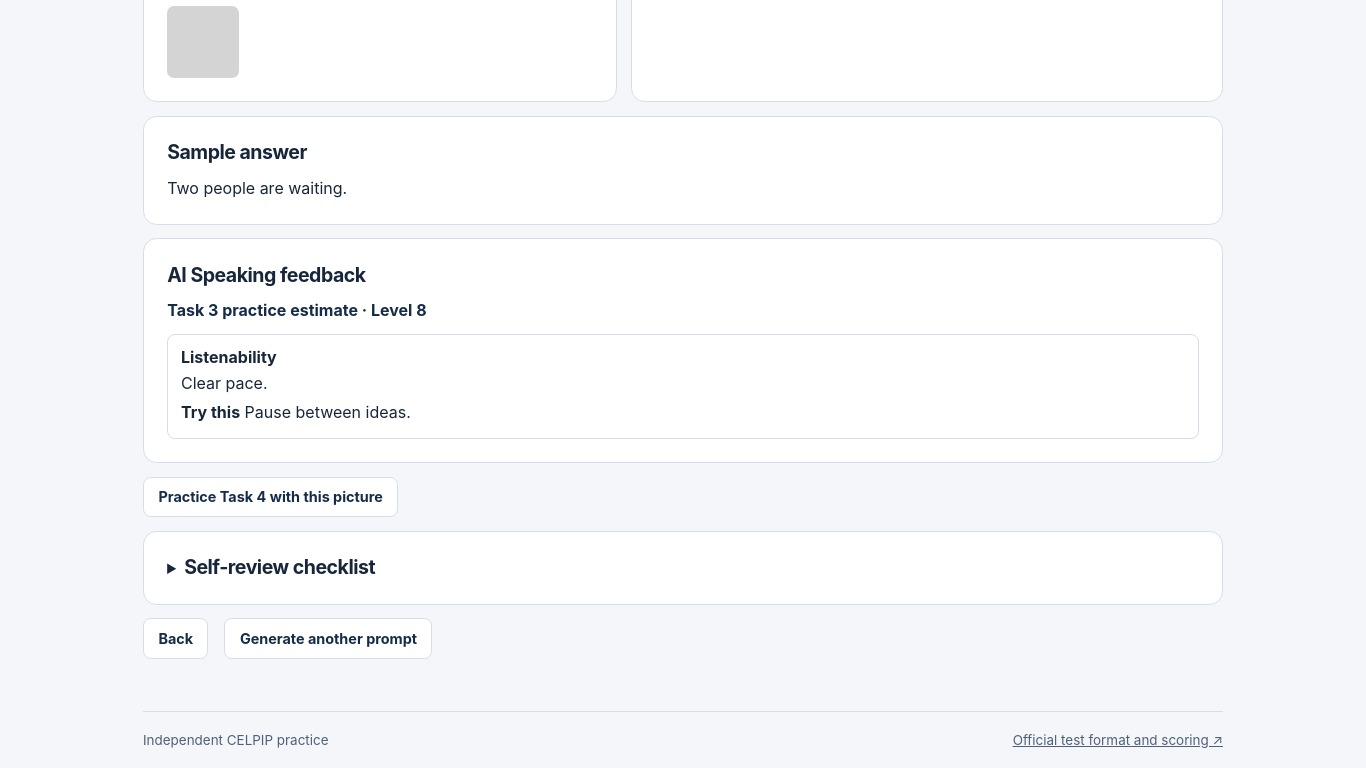
it: restores Speaking feedback and continues a prediction drill with the recorded scene
(page scrolled)
Expected: the text "Task 3 practice estimate · Level 8" is shown, [167,298,427,323]
Expected: the text "Clear pace." is shown, [181,373,268,393]
What coordinates should you click on to do the following:
click the link "Practice Task 4 with this picture"
I would click on:
 (271, 497)
Its box is [143,476,398,517].
(page scrolled)
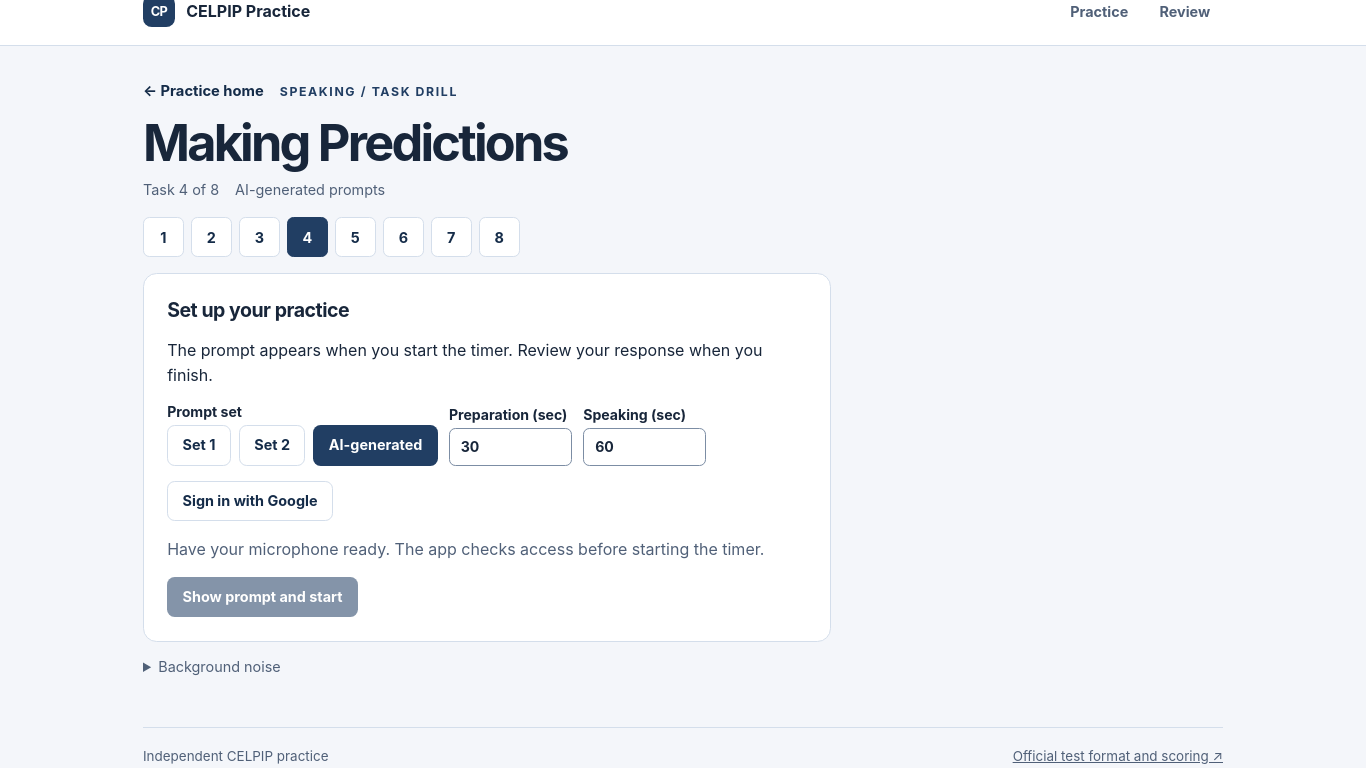
Expected: the heading "Making Predictions" is shown, [143,112,567,173]
